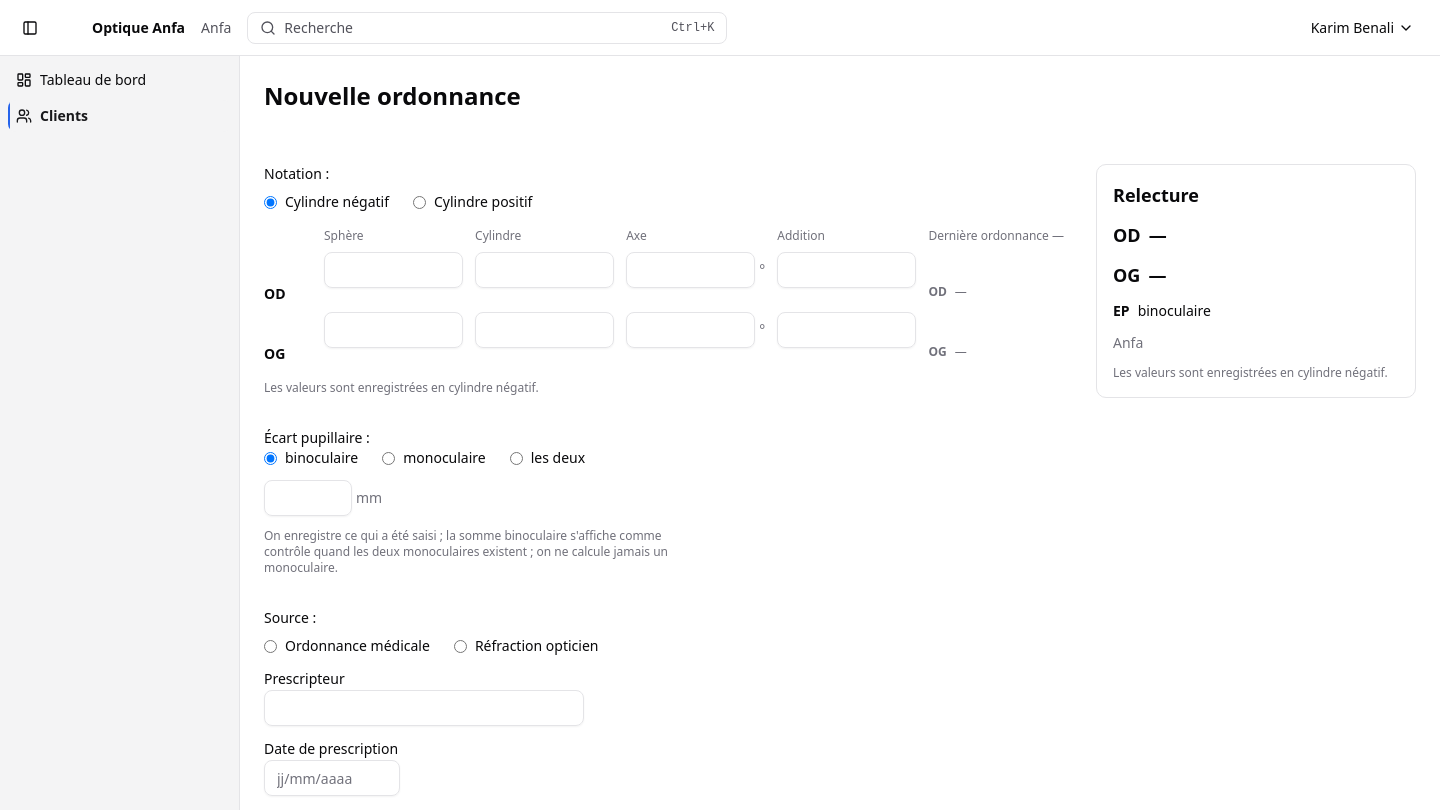
it: l'avertissement qui n'est pas un refus (16.4, 25.1, T-04-56) › client07_aucune_note_n_apparait_AVANT_le_blur
The image size is (1440, 810).
In the 1st field named "Sphère de l'œil droit": [394, 270] box [324,252,463,288], type "+1"
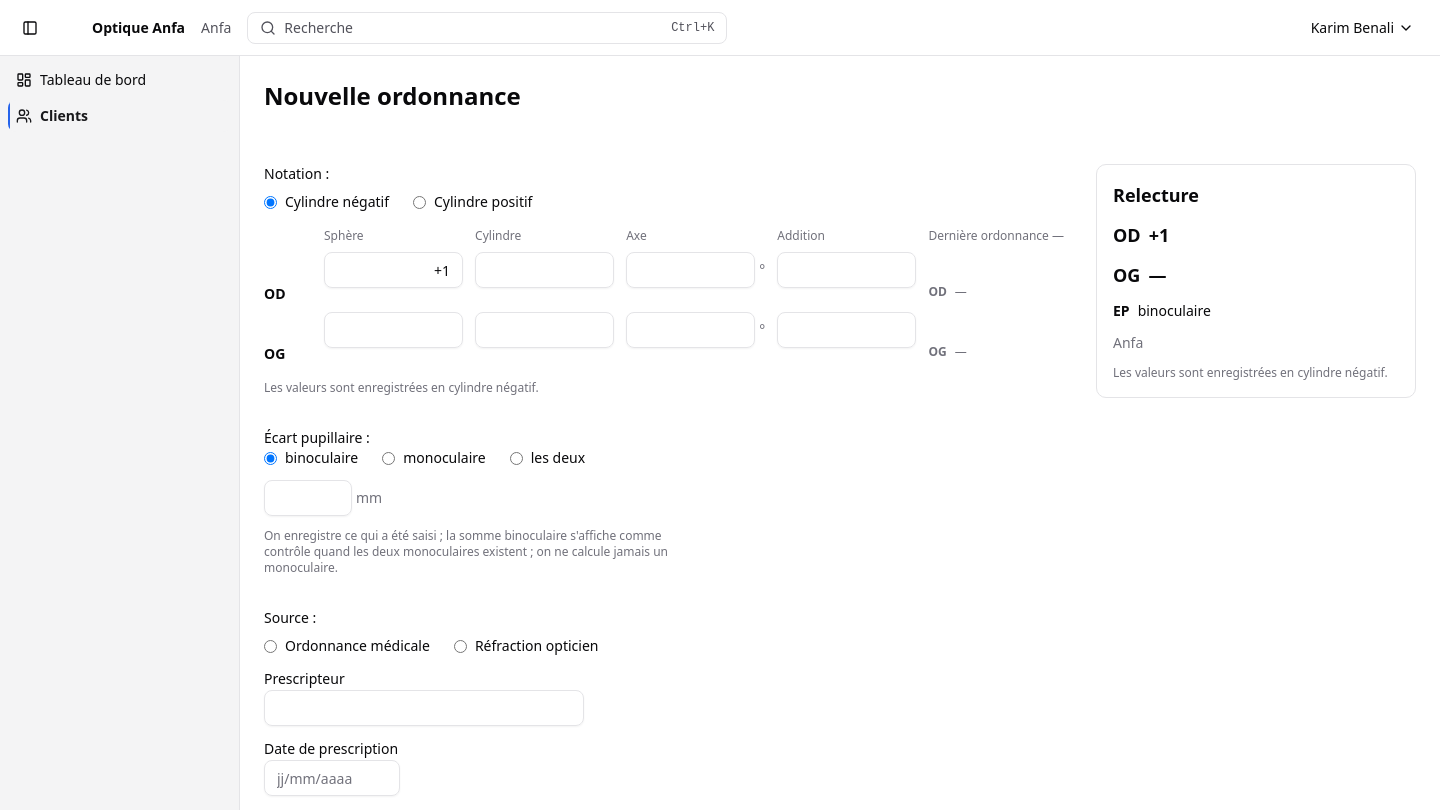
Replace the text in the 1st field named "Sphère de l'œil droit" with "+12,00": [394, 270] box [324,252,463,288]
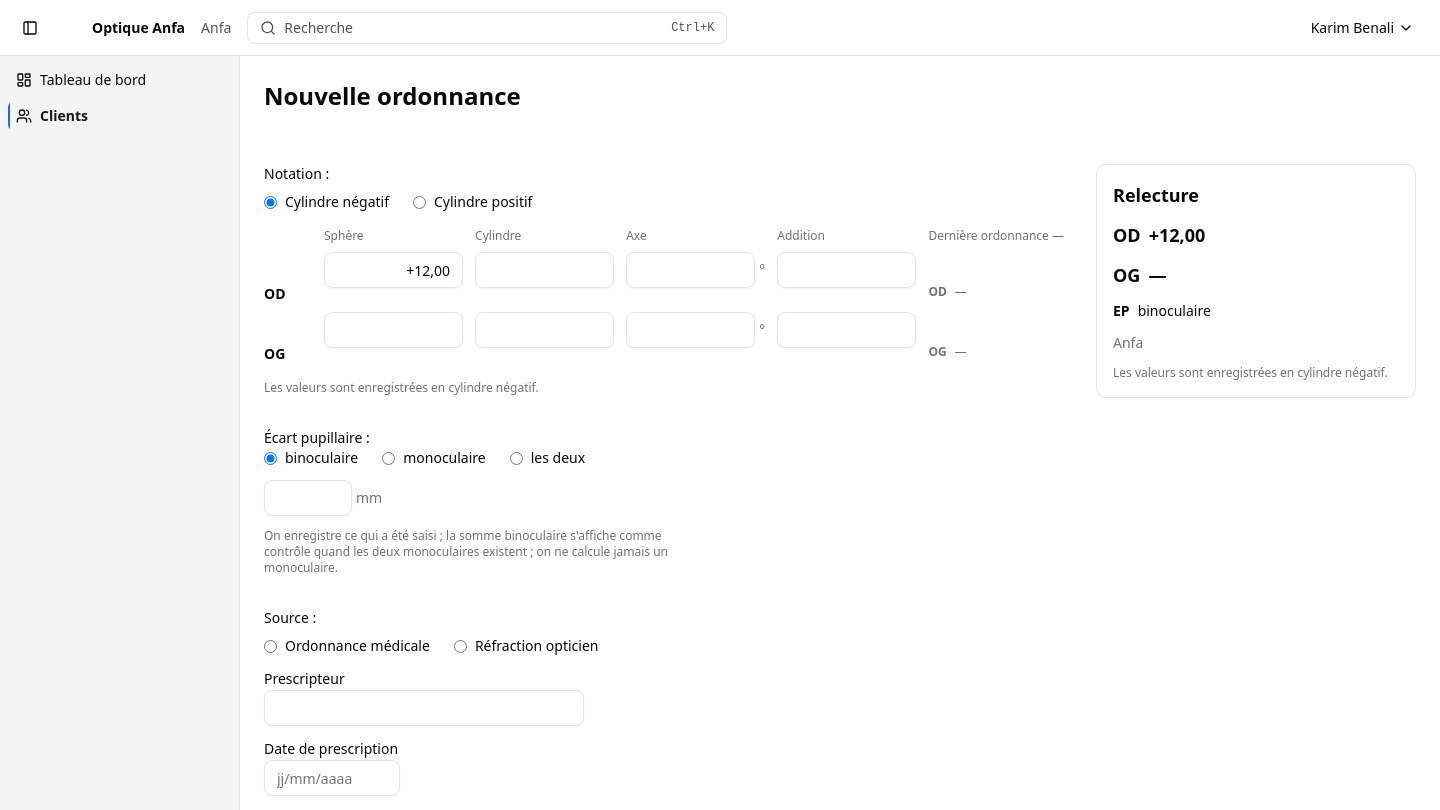
Check: the text "À vérifier — " is not shown
Leave the 1st field named "Sphère de l'œil droit", box [324,252,463,288]
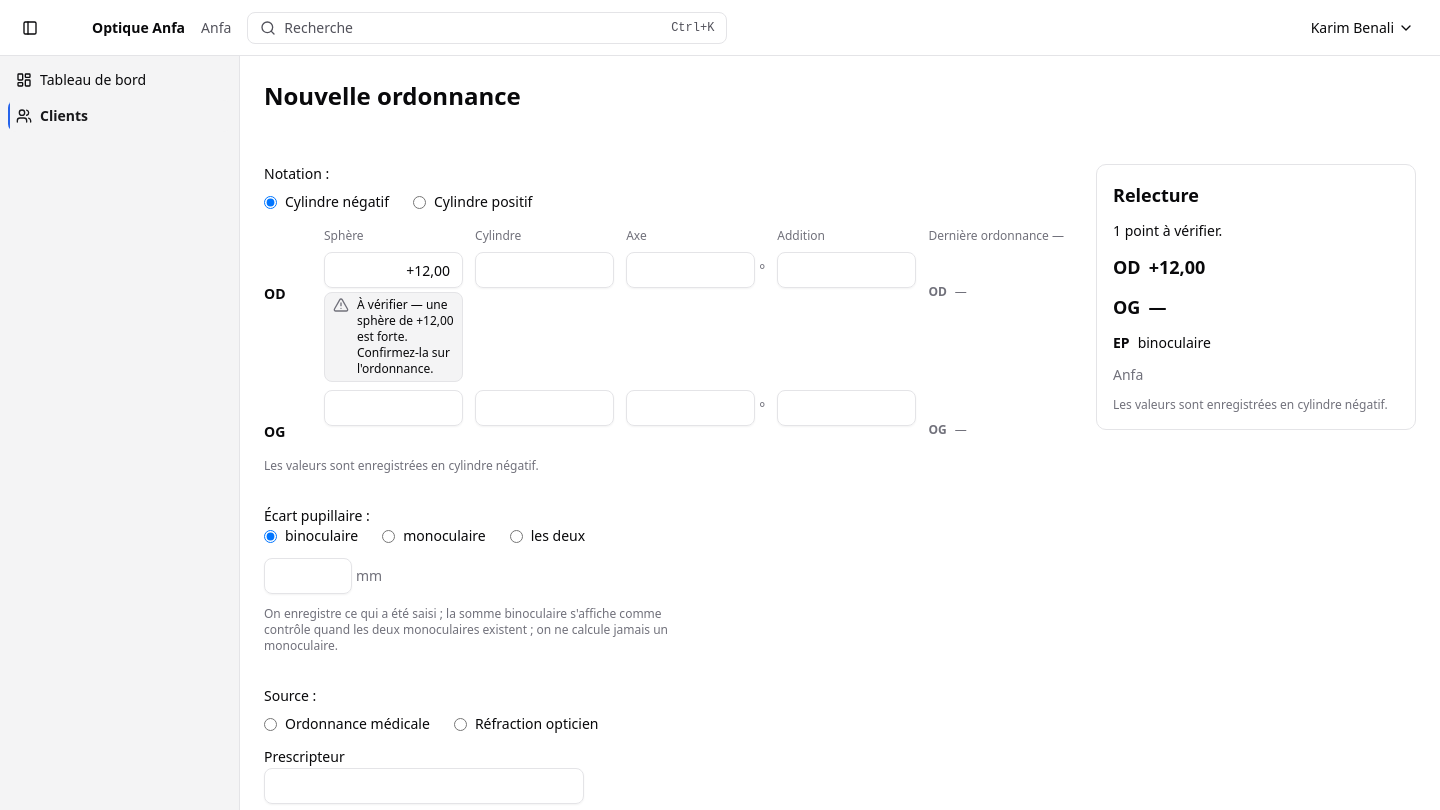
Check: the text "À vérifier — une sphère de +12,00 est forte. Confirmez-la sur l'ordonnance." is shown, box [324,292,463,382]
